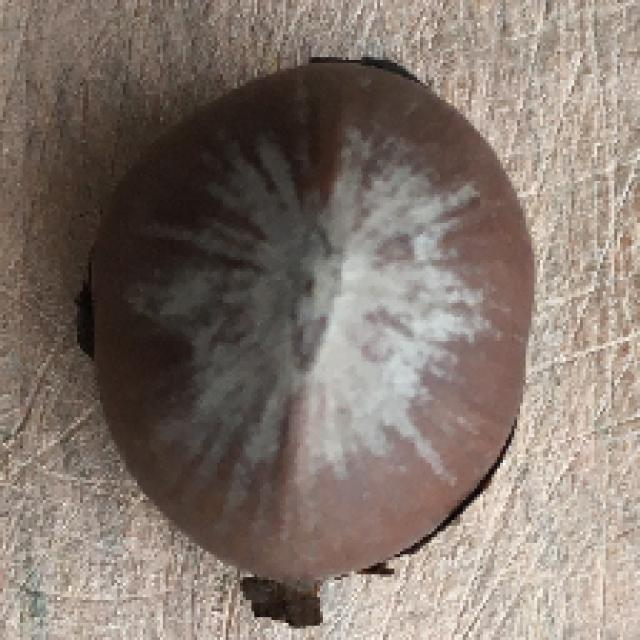DamagedHazelnut: (92, 65, 537, 584)
